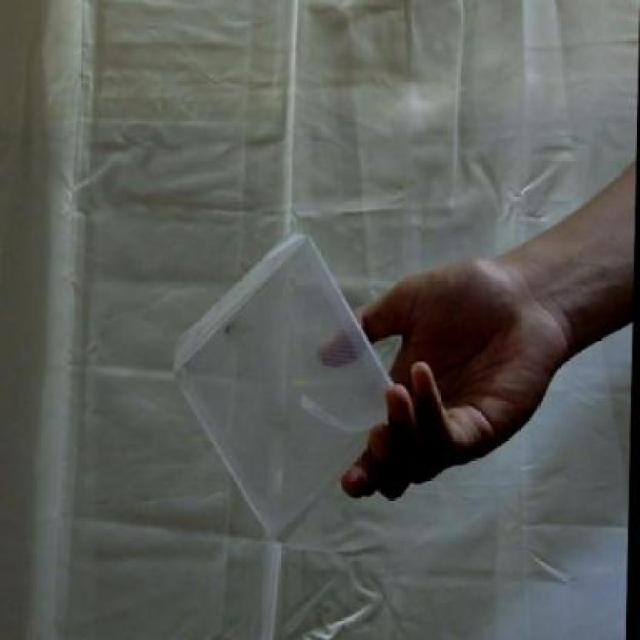Plastic: (171, 230, 420, 552)
